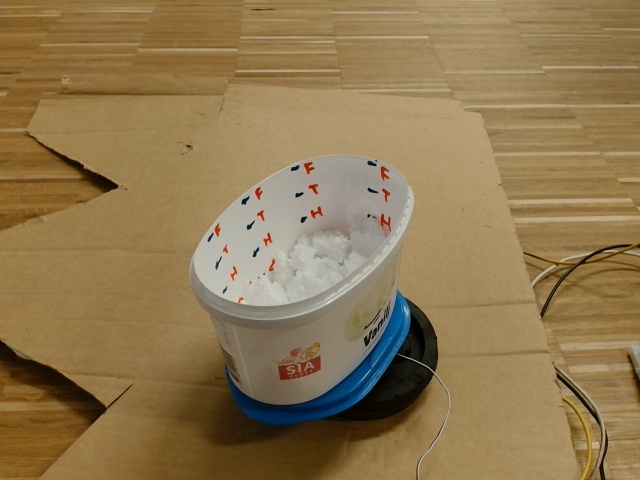Big_quarter: (190, 152, 417, 325)
